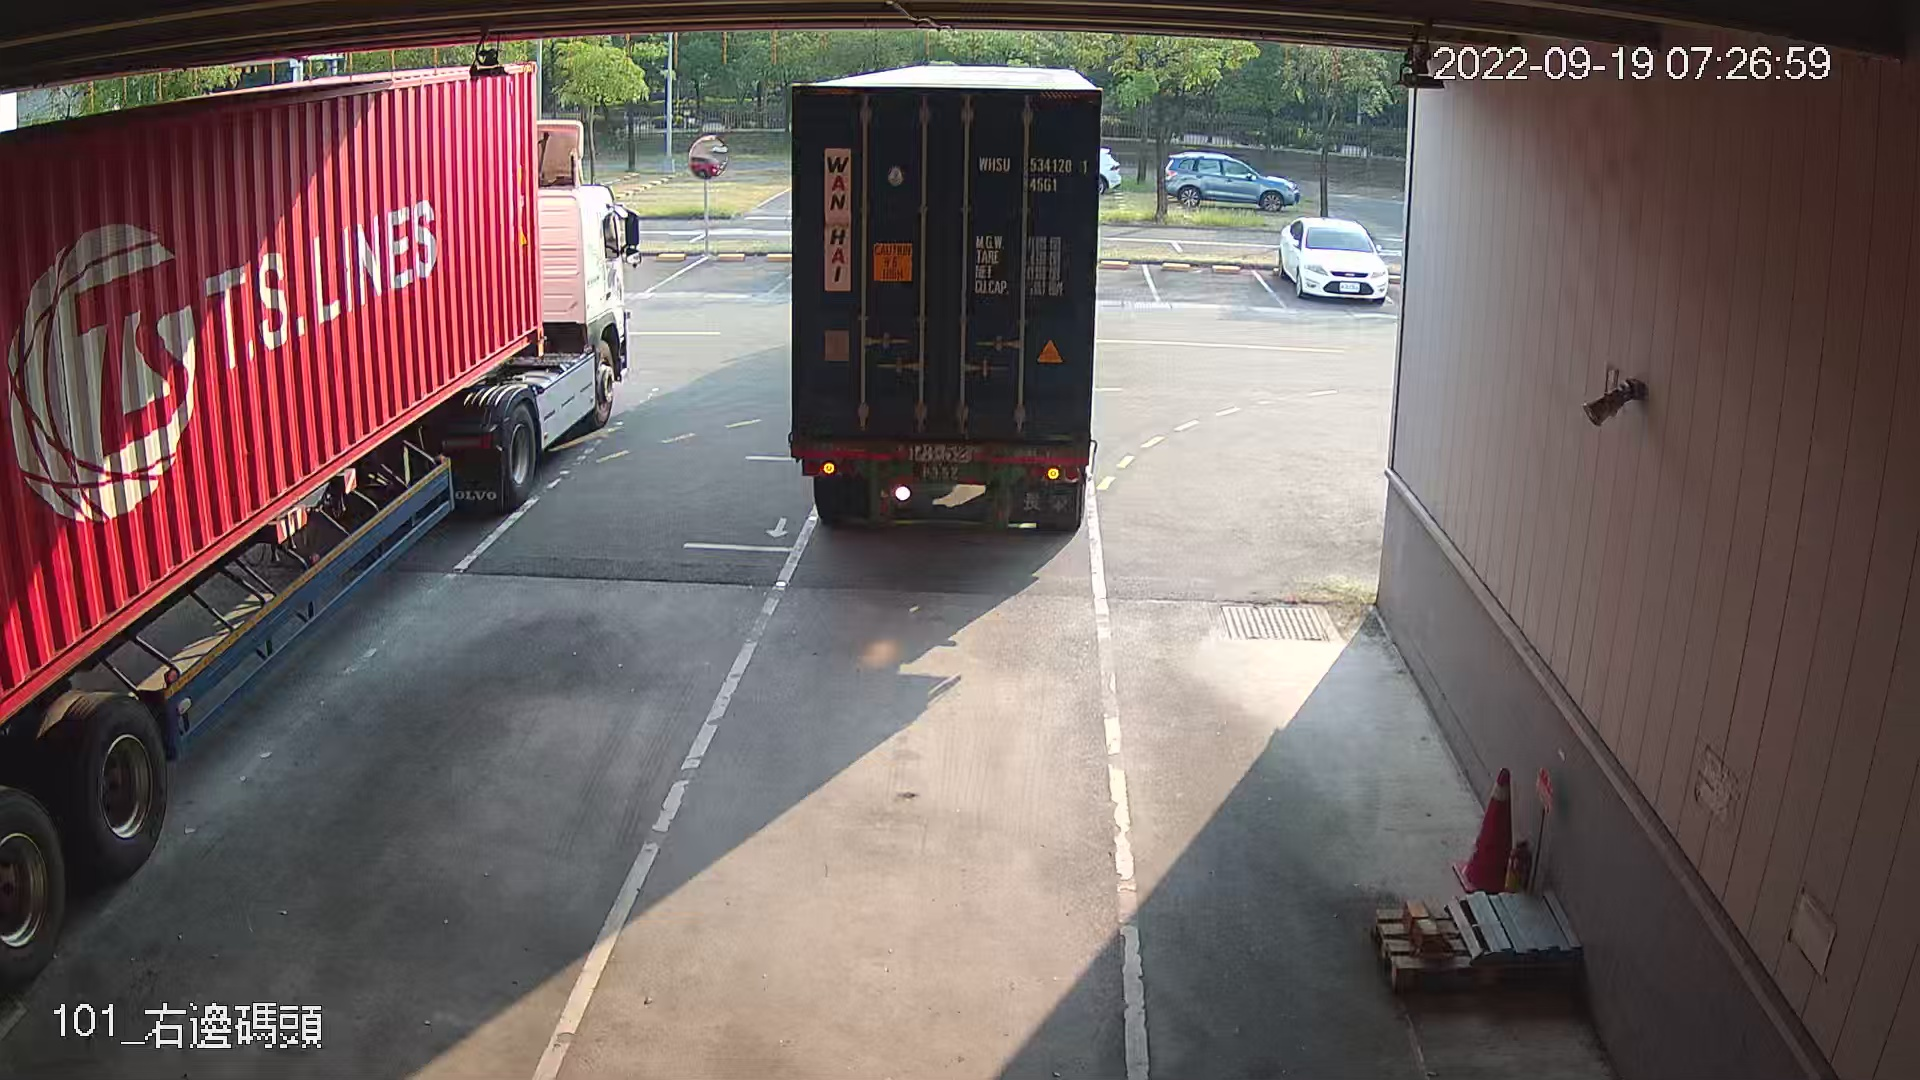container: (971, 145, 1095, 204)
